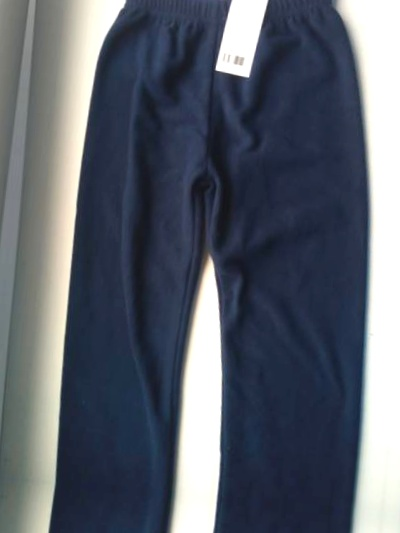Pants: (27, 0, 400, 514), (0, 482, 368, 533), (396, 0, 400, 533), (344, 519, 400, 533)
